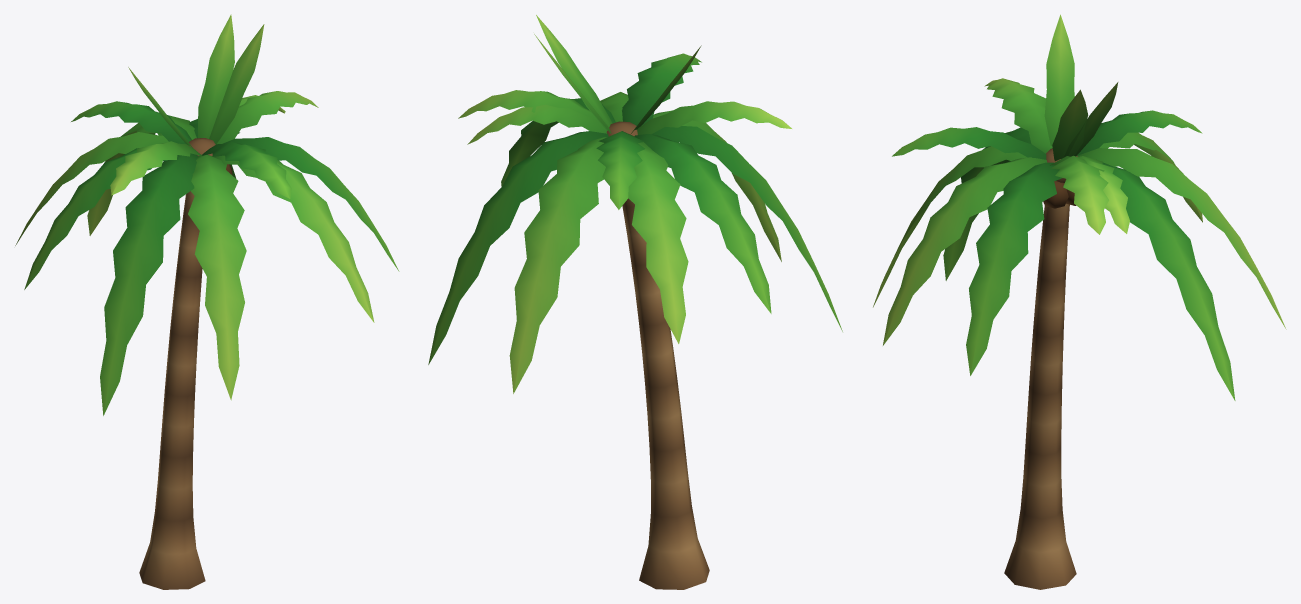
The model's file is Palm_Medium.obj.
The picture shows the model from 3 angles, left to right: view 1: azimuth 30°, elevation 25°; view 2: azimuth 150°, elevation 25°; view 3: azimuth 270°, elevation 25°; orthographic projection. The views are drawn at different scales.
Visible parts, largest first — view 1: Palm_Medium; view 2: Palm_Medium; view 3: Palm_Medium.
Part boxes in pixels (<box>): Palm_Medium: <box>15,14,399,589</box>; Palm_Medium: <box>428,15,842,589</box>; Palm_Medium: <box>873,14,1286,589</box>.
Bounding box in the file's own units: 1.8 × 2.82 × 1.96.
Materials: 1 (1 with a texture image).
